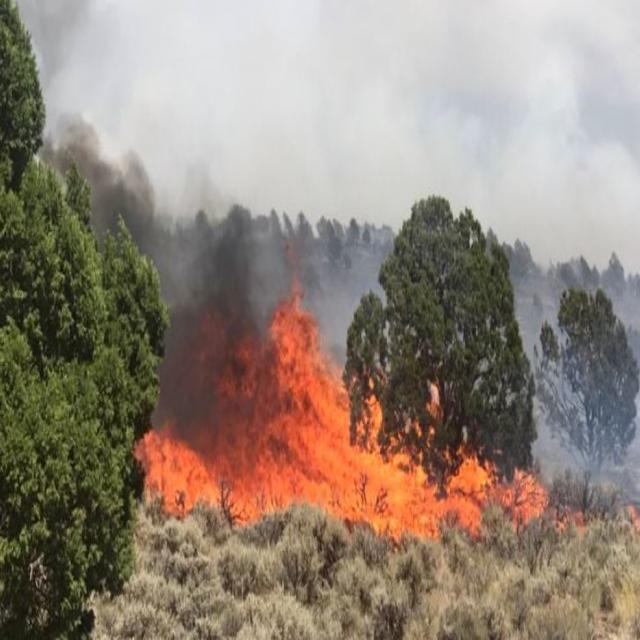Fire: (114, 302, 556, 550)
Smoke: (0, 0, 277, 475)
